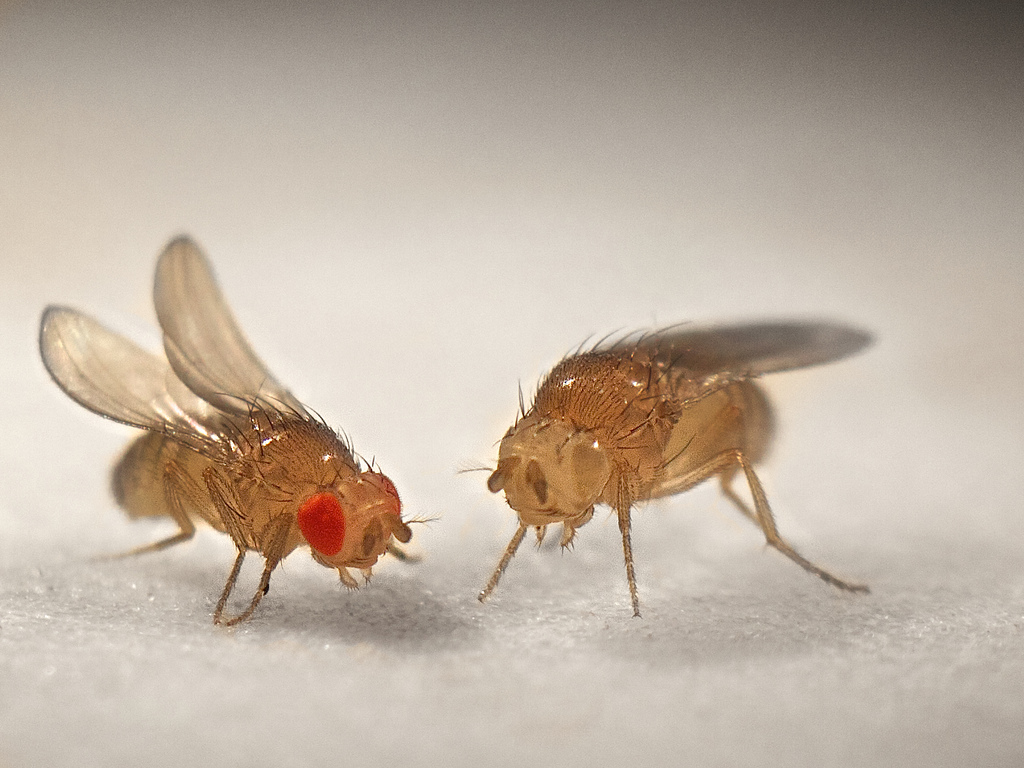Fruit fly: (433, 291, 934, 635), (44, 256, 395, 615)
